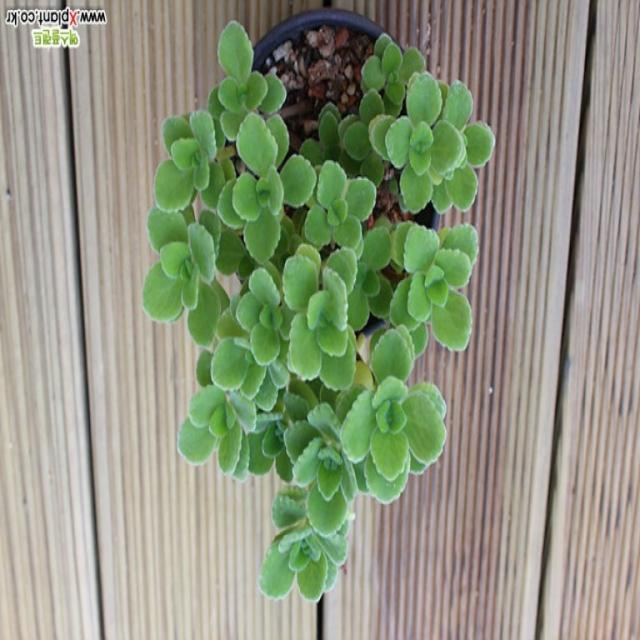Vicks: (341, 325, 445, 503), (218, 112, 316, 263), (142, 207, 228, 348), (385, 72, 465, 212), (282, 245, 358, 391), (259, 487, 349, 601), (154, 90, 235, 212), (285, 403, 358, 537), (218, 22, 286, 141), (305, 161, 375, 248), (236, 267, 291, 366), (361, 34, 424, 115)
